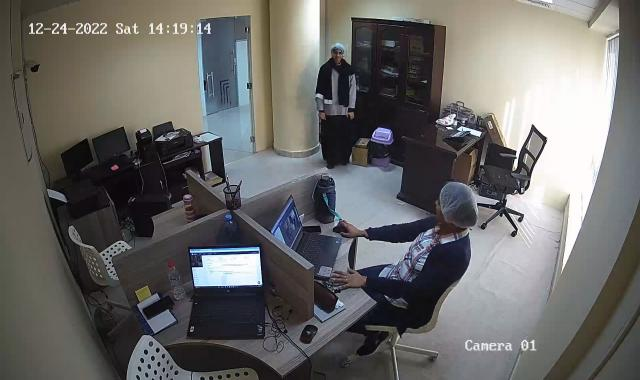hairnet: (433, 180, 480, 233), (330, 43, 347, 63)
